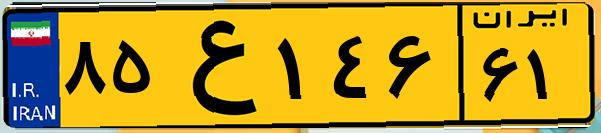1: (270, 28, 330, 110), (525, 38, 570, 115)
4: (330, 28, 385, 110)
5: (110, 28, 158, 98)
6: (385, 28, 445, 110), (475, 38, 525, 113)
8: (57, 26, 110, 100)
ع: (158, 12, 270, 120)
